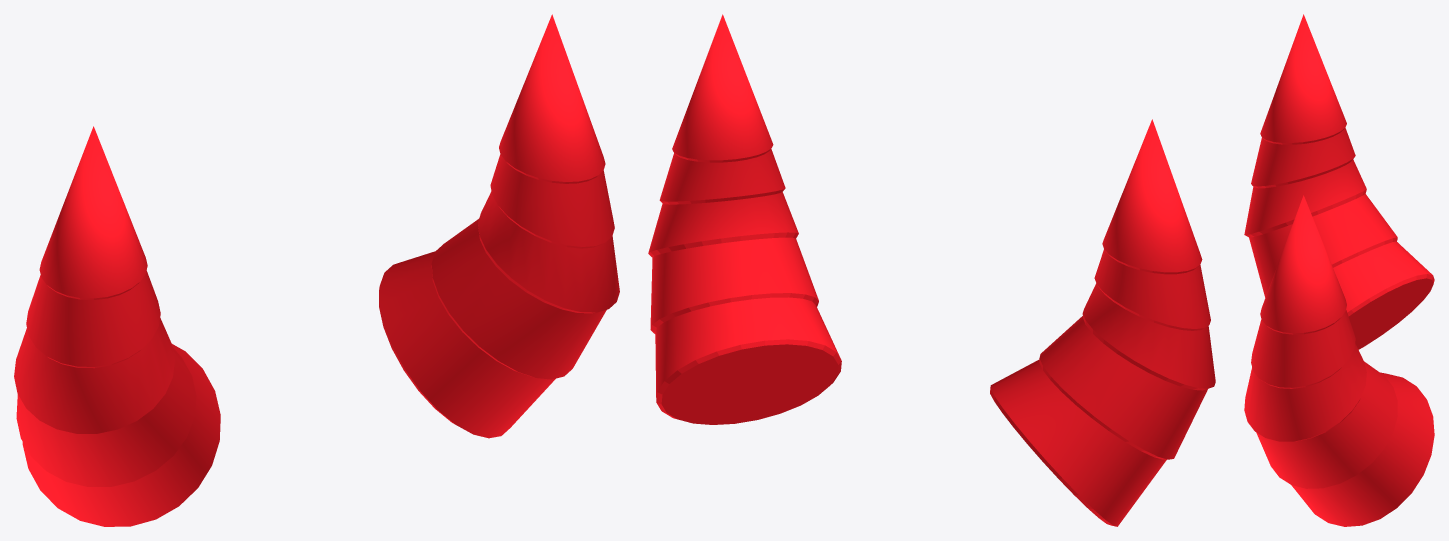
File: Hat_Horns.fbx
3 renders of one model, left to right at view 1: azimuth 30°, elevation 25°; view 2: azimuth 150°, elevation 25°; view 3: azimuth 270°, elevation 25°, orthographic. The views are drawn at different scales.
Parts seen in each view (by area): view 1: Horn; view 2: Horn; view 3: Horn.
Part boxes in pixels (x1,y1,x2,y2): Horn: (14,14,619,526); Horn: (648,14,1215,526); Horn: (1244,14,1434,526).
Size of the model in its own units: 299 by 204 by 104.
